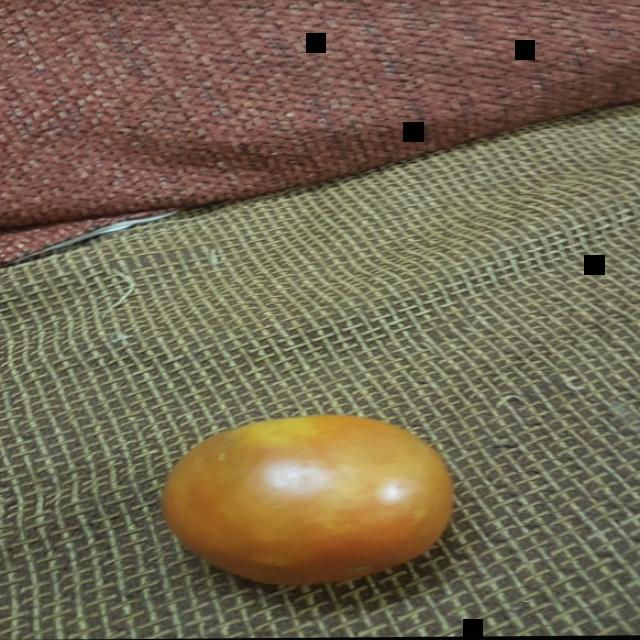tomato: (155, 406, 459, 583)
